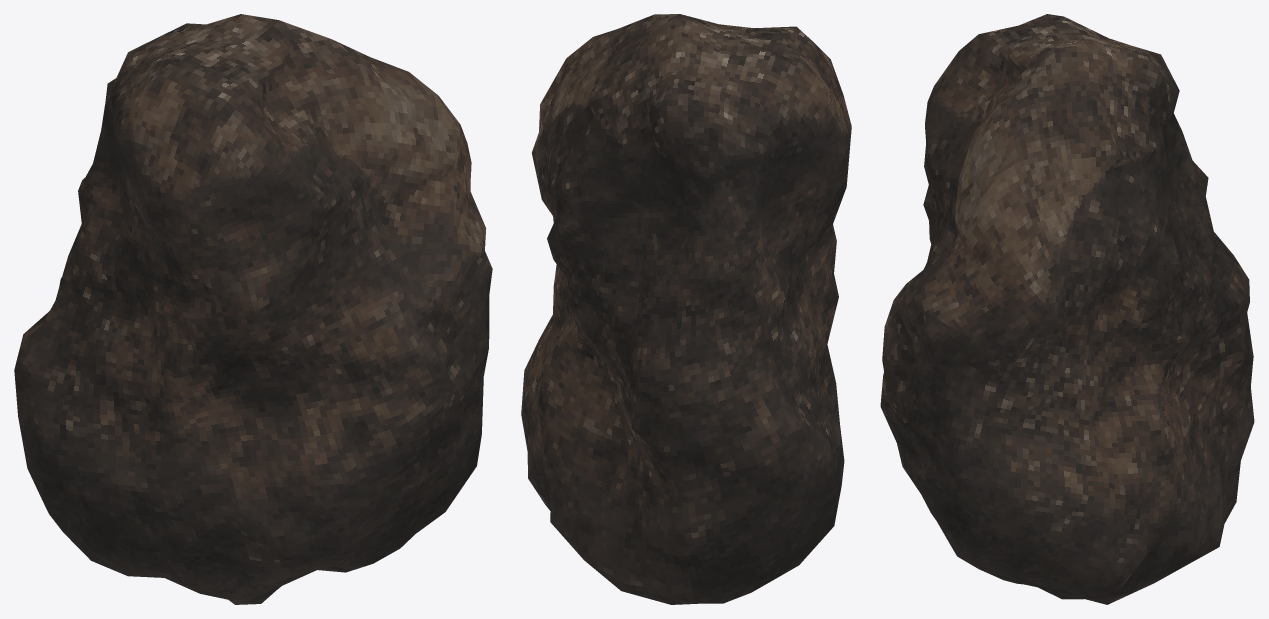
Rendered from SM_RP2_Rock_2m_4.001.glb.
3 renders of one model, left to right at view 1: azimuth 30°, elevation 25°; view 2: azimuth 150°, elevation 25°; view 3: azimuth 270°, elevation 25°, orthographic. The views are drawn at different scales.
Parts seen in each view (by area): view 1: SM_RP2_Rock_2m_4.001; view 2: SM_RP2_Rock_2m_4.001; view 3: SM_RP2_Rock_2m_4.001.
Boxes of the visible parts, box(x1,y1,x2,y2) form: SM_RP2_Rock_2m_4.001: box(14, 14, 492, 604); SM_RP2_Rock_2m_4.001: box(521, 14, 851, 604); SM_RP2_Rock_2m_4.001: box(880, 14, 1254, 604).
Size of the model in its own units: 2.33 by 3.6 by 2.2.
1 material, 1 textured.
